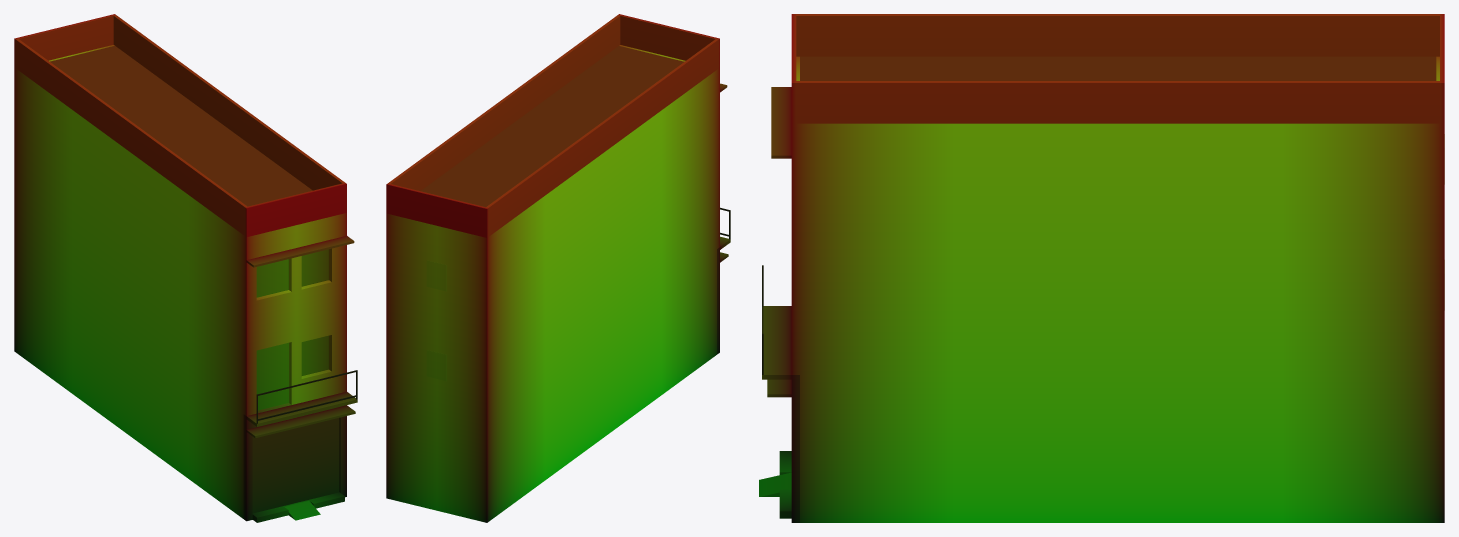
The model's file is nha_ong_4x16.mid.glb.
3 renders of one model, left to right at view 1: azimuth 30°, elevation 25°; view 2: azimuth 150°, elevation 25°; view 3: azimuth 270°, elevation 25°, orthographic. The views are drawn at different scales.
Parts seen in each view (by area): view 1: nha_ong_4x16, shutter_nha_ong_4x16; view 2: nha_ong_4x16; view 3: nha_ong_4x16.
Part boxes in pixels (left/top/right/bottom): nha_ong_4x16: left=14, top=14, right=357, bottom=522; shutter_nha_ong_4x16: left=252, top=418, right=339, bottom=513; nha_ong_4x16: left=386, top=14, right=730, bottom=522; nha_ong_4x16: left=759, top=14, right=1444, bottom=522.
Size of what is drawn, in the model's own units: 4 by 11.9 by 16.81.
